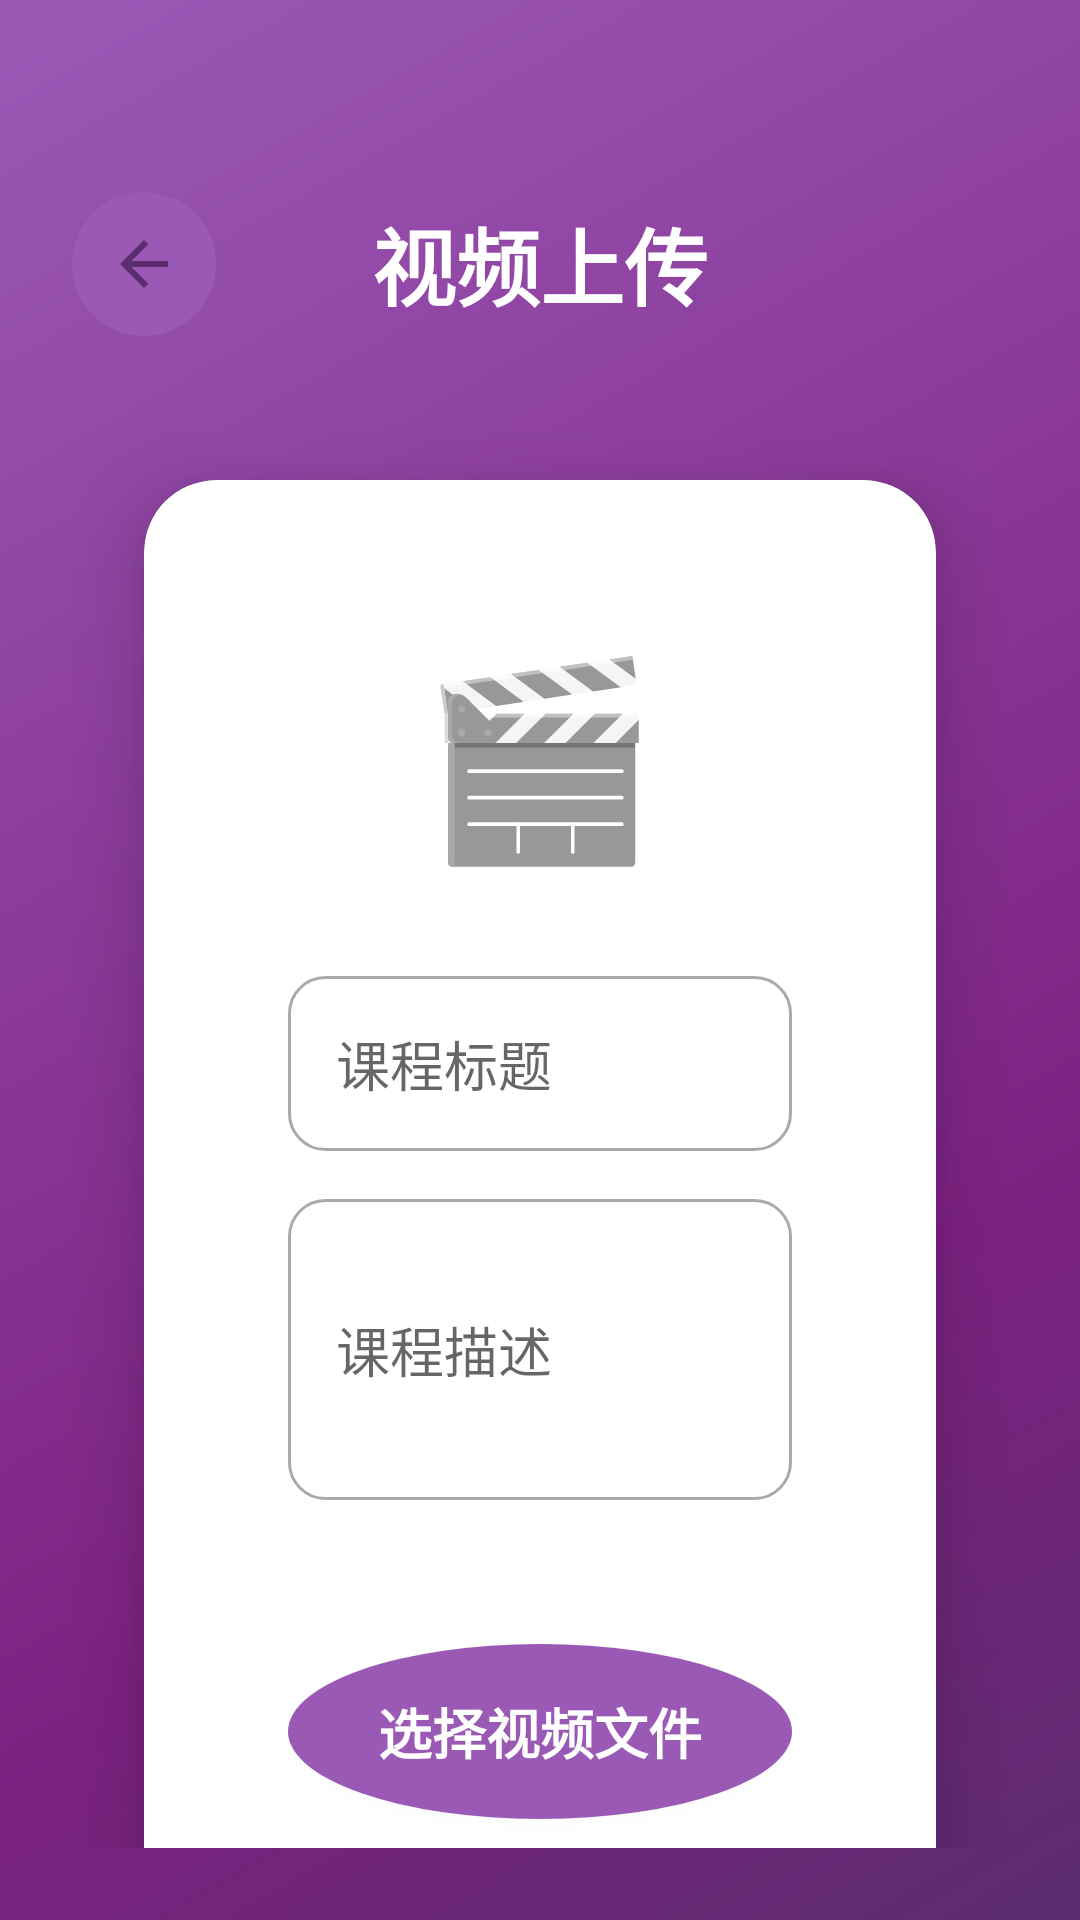

Screen size 1080w x 1920h. Icon name, then its center in pixels as [x,y]:
返回: [144,264]
